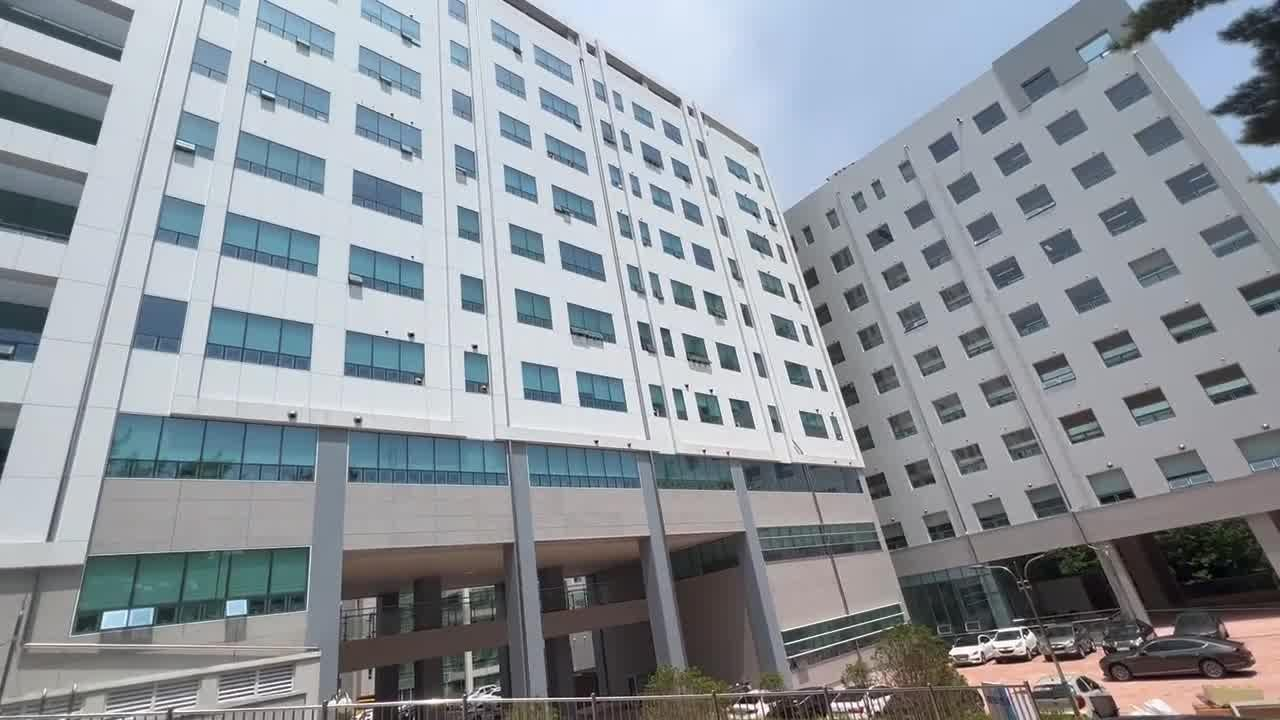building: (17, 14, 1263, 668)
